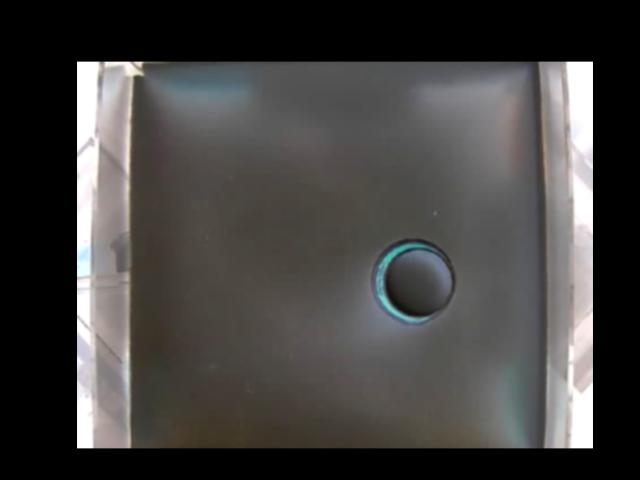Cup: (372, 236, 457, 325)
